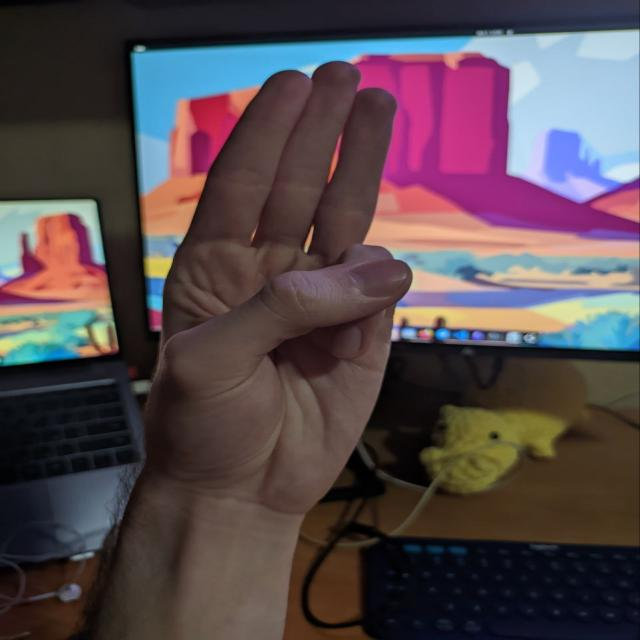sh: (184, 52, 415, 478)
